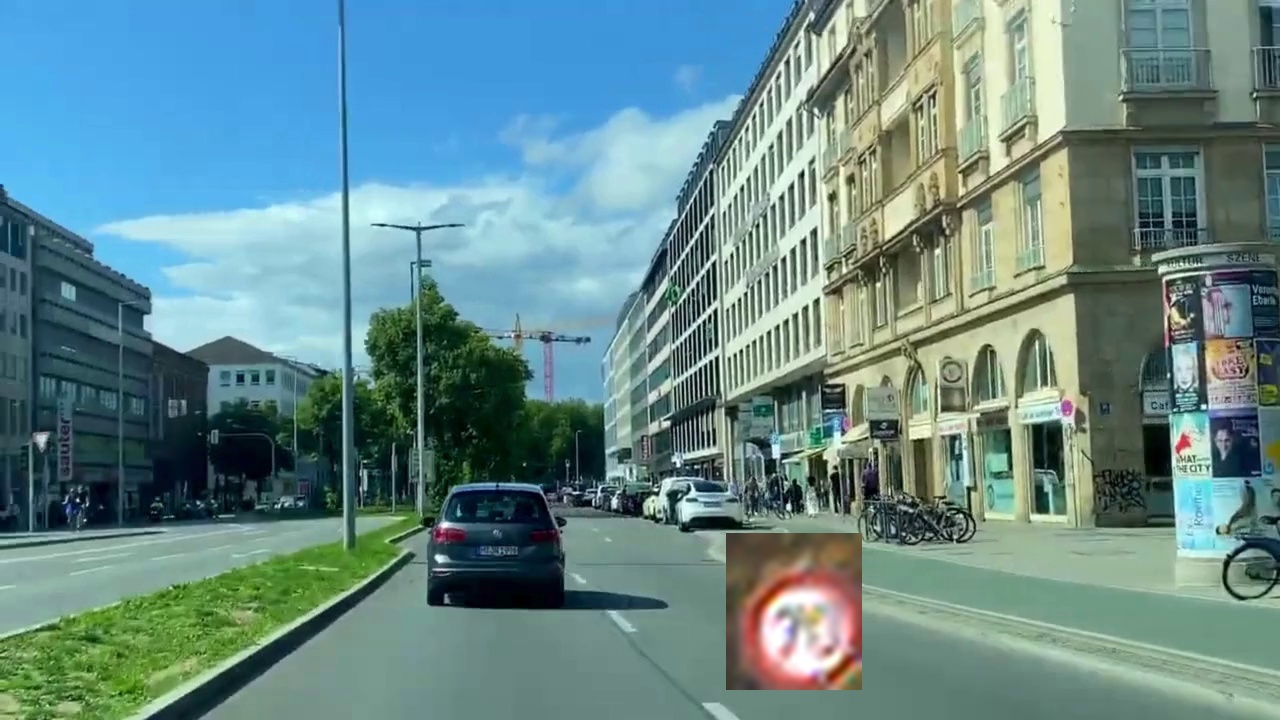Speed 70: (726, 533, 862, 690)
